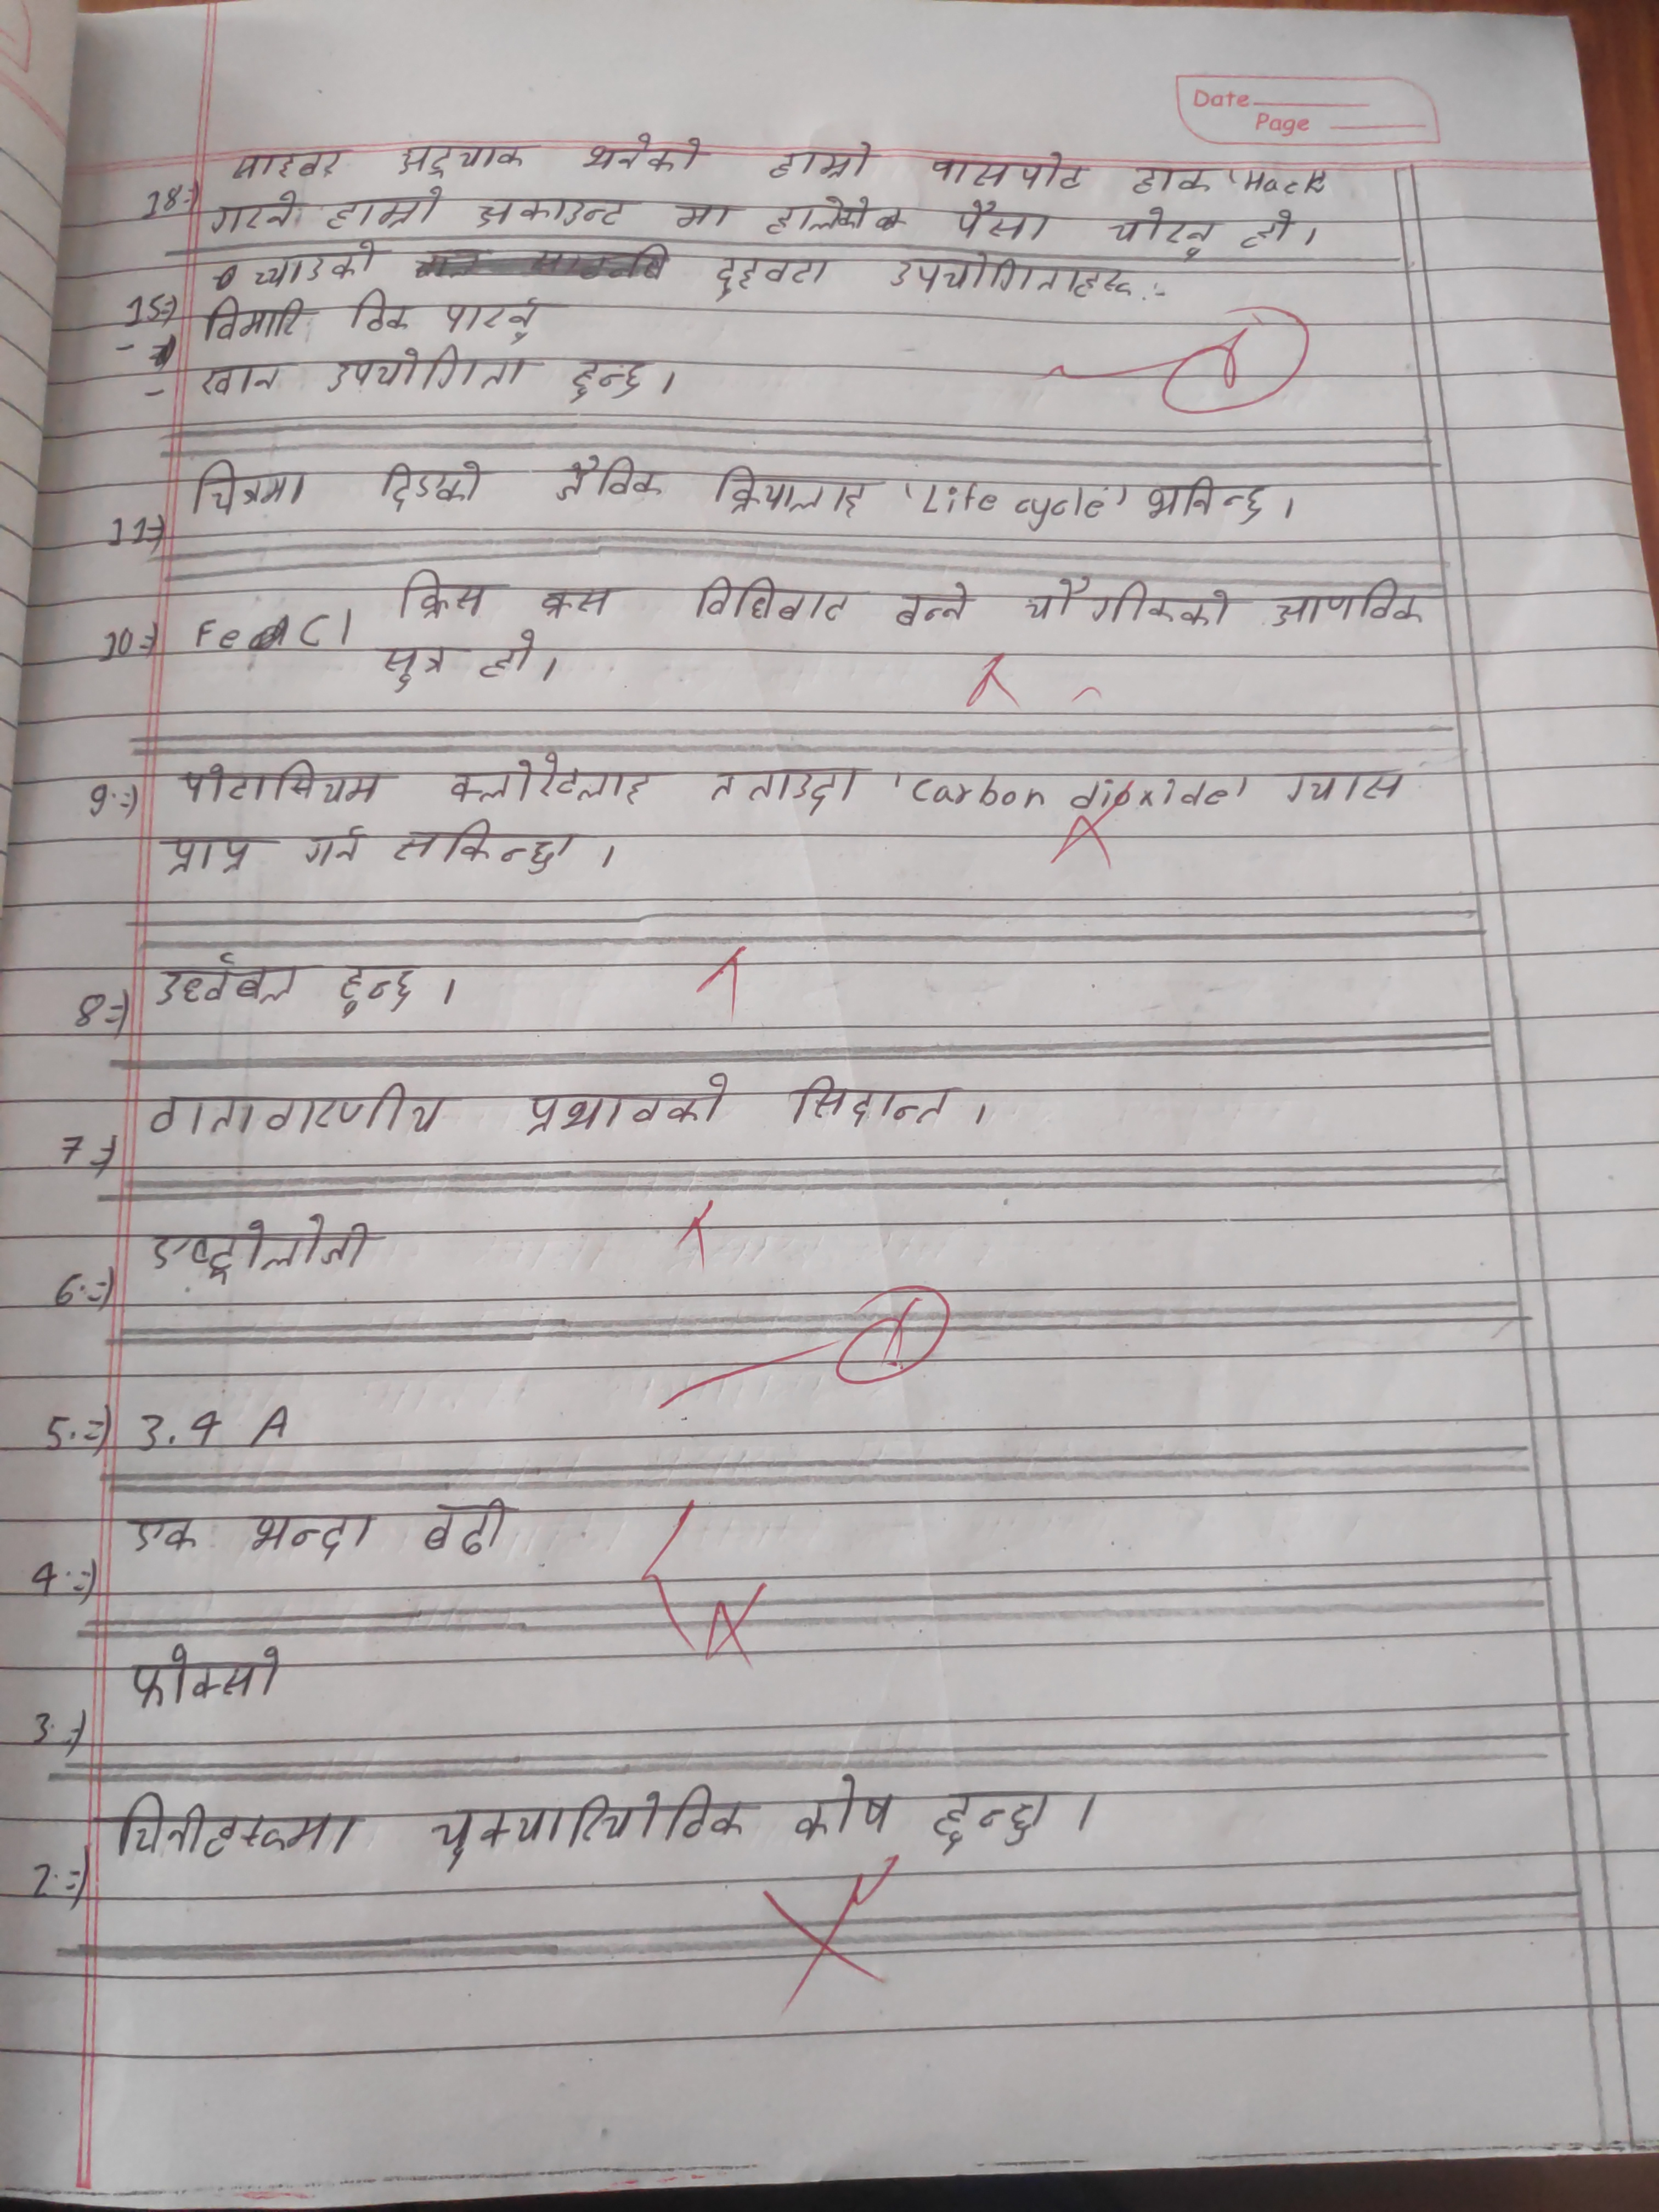text: (429, 1784, 760, 1871), (103, 1792, 364, 1865), (152, 1080, 455, 1139), (148, 1217, 378, 1285), (519, 1071, 732, 1139), (887, 246, 1141, 301), (1023, 577, 1236, 631), (450, 754, 657, 806), (322, 348, 537, 399), (129, 1642, 286, 1710), (171, 758, 389, 806), (714, 462, 884, 524), (392, 819, 559, 880), (788, 1073, 955, 1129), (695, 568, 850, 625), (701, 759, 864, 813), (155, 953, 308, 1010), (1267, 580, 1429, 634), (936, 1785, 1061, 1855), (240, 1507, 382, 1561), (791, 1775, 901, 1843), (472, 188, 641, 232), (934, 145, 1094, 190), (706, 251, 838, 301), (582, 131, 711, 181), (251, 240, 389, 287), (1147, 472, 1270, 524), (186, 463, 310, 514), (324, 185, 448, 233), (420, 1500, 516, 1561), (439, 293, 547, 347), (390, 138, 528, 179), (382, 458, 488, 512), (951, 195, 1054, 251), (1105, 209, 1218, 258), (552, 456, 666, 505), (160, 831, 274, 880), (399, 561, 491, 620), (202, 293, 312, 341), (760, 141, 884, 183), (565, 352, 652, 409), (765, 192, 875, 237), (894, 580, 974, 639), (336, 960, 420, 1015), (371, 637, 451, 695), (1283, 768, 1403, 806), (209, 190, 303, 239), (293, 820, 375, 871), (228, 152, 347, 181), (202, 362, 293, 401), (127, 1512, 202, 1557), (476, 629, 538, 683), (1127, 162, 1215, 200), (526, 580, 613, 618), (1241, 207, 1300, 261), (350, 291, 415, 340), (673, 199, 734, 233)
